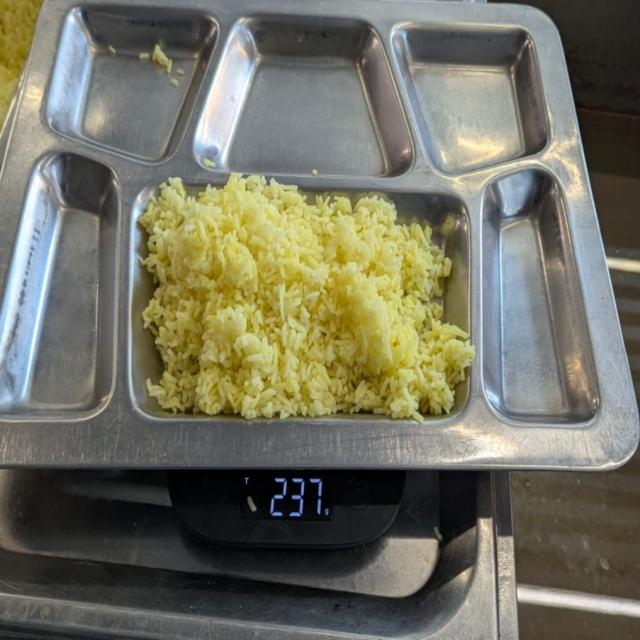Pulao: (141, 177, 467, 423)
